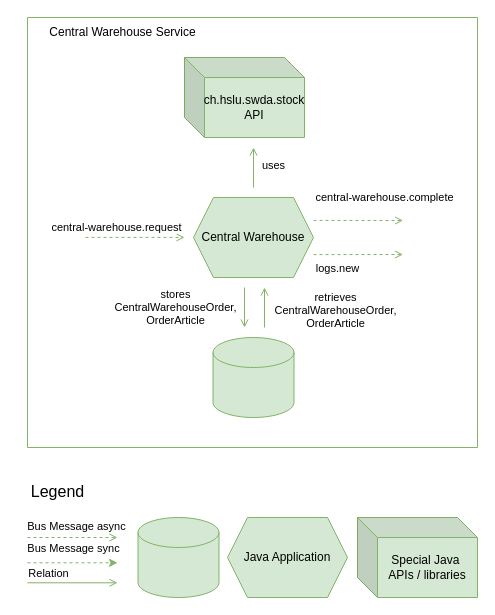
This 495x615 diagram has some shape labels left out. The shapes that lost their labels are listed below. From the top down, each one's box as (x1, y1, x2, y2) in pixels, then its label:
(212, 336, 294, 418): MySQL
(137, 516, 219, 598): Database
